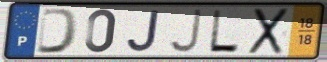0: (83, 7, 118, 55)
D: (34, 7, 80, 55)
J: (167, 8, 204, 55), (125, 9, 162, 54)
L: (206, 8, 241, 54)
X: (246, 6, 291, 57)
